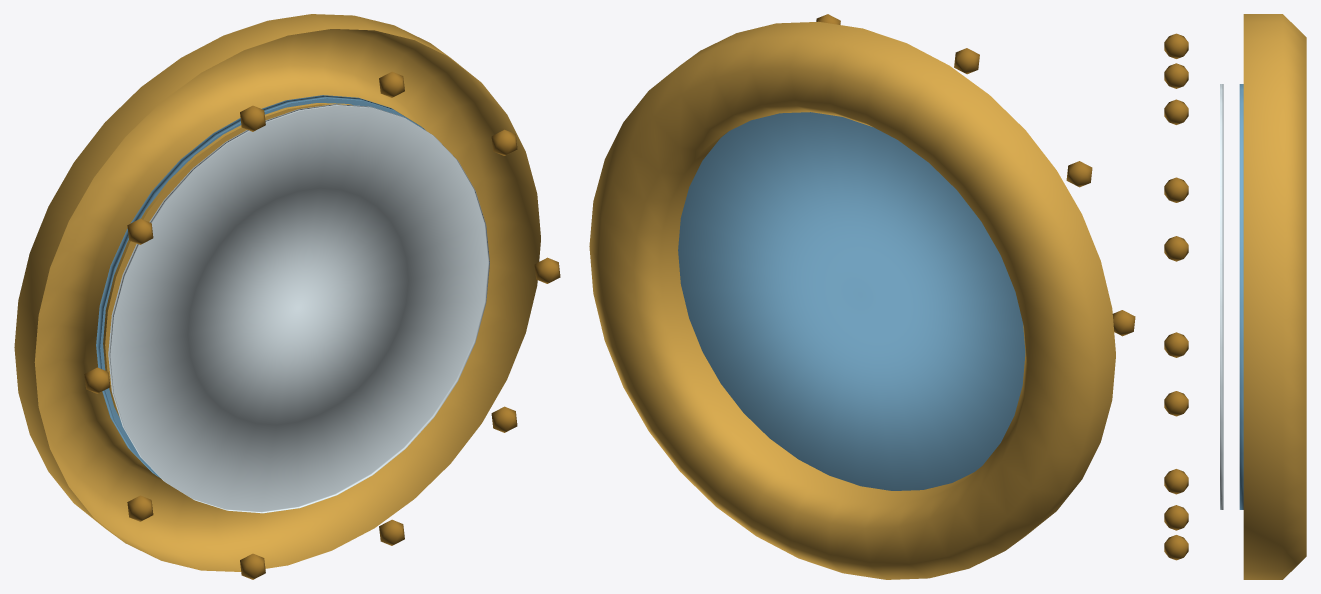
File: furn_porthole.glb
3 views of the same model, side by side, from view 1: azimuth 30°, elevation 25°; view 2: azimuth 150°, elevation 25°; view 3: azimuth 270°, elevation 25° (orthographic). The views are drawn at different scales.
Parts seen in each view (by area): view 1: furn_porthole_clear, furn_porthole_gloss, furn_porthole_main; view 2: furn_porthole_gloss, furn_porthole_main; view 3: furn_porthole_gloss, furn_porthole_main, furn_porthole_clear.
Part boxes in pixels (bbox=[...]): furn_porthole_clear: bbox=[108, 104, 489, 513]; furn_porthole_gloss: bbox=[14, 14, 540, 571]; furn_porthole_main: bbox=[84, 71, 560, 579]; furn_porthole_gloss: bbox=[589, 21, 1115, 579]; furn_porthole_main: bbox=[678, 14, 1135, 490]; furn_porthole_gloss: bbox=[1243, 14, 1306, 579]; furn_porthole_main: bbox=[1164, 33, 1243, 560]; furn_porthole_clear: bbox=[1220, 84, 1223, 509].
Bounding box in the file's own units: 0.72 × 0.72 × 0.1803.
